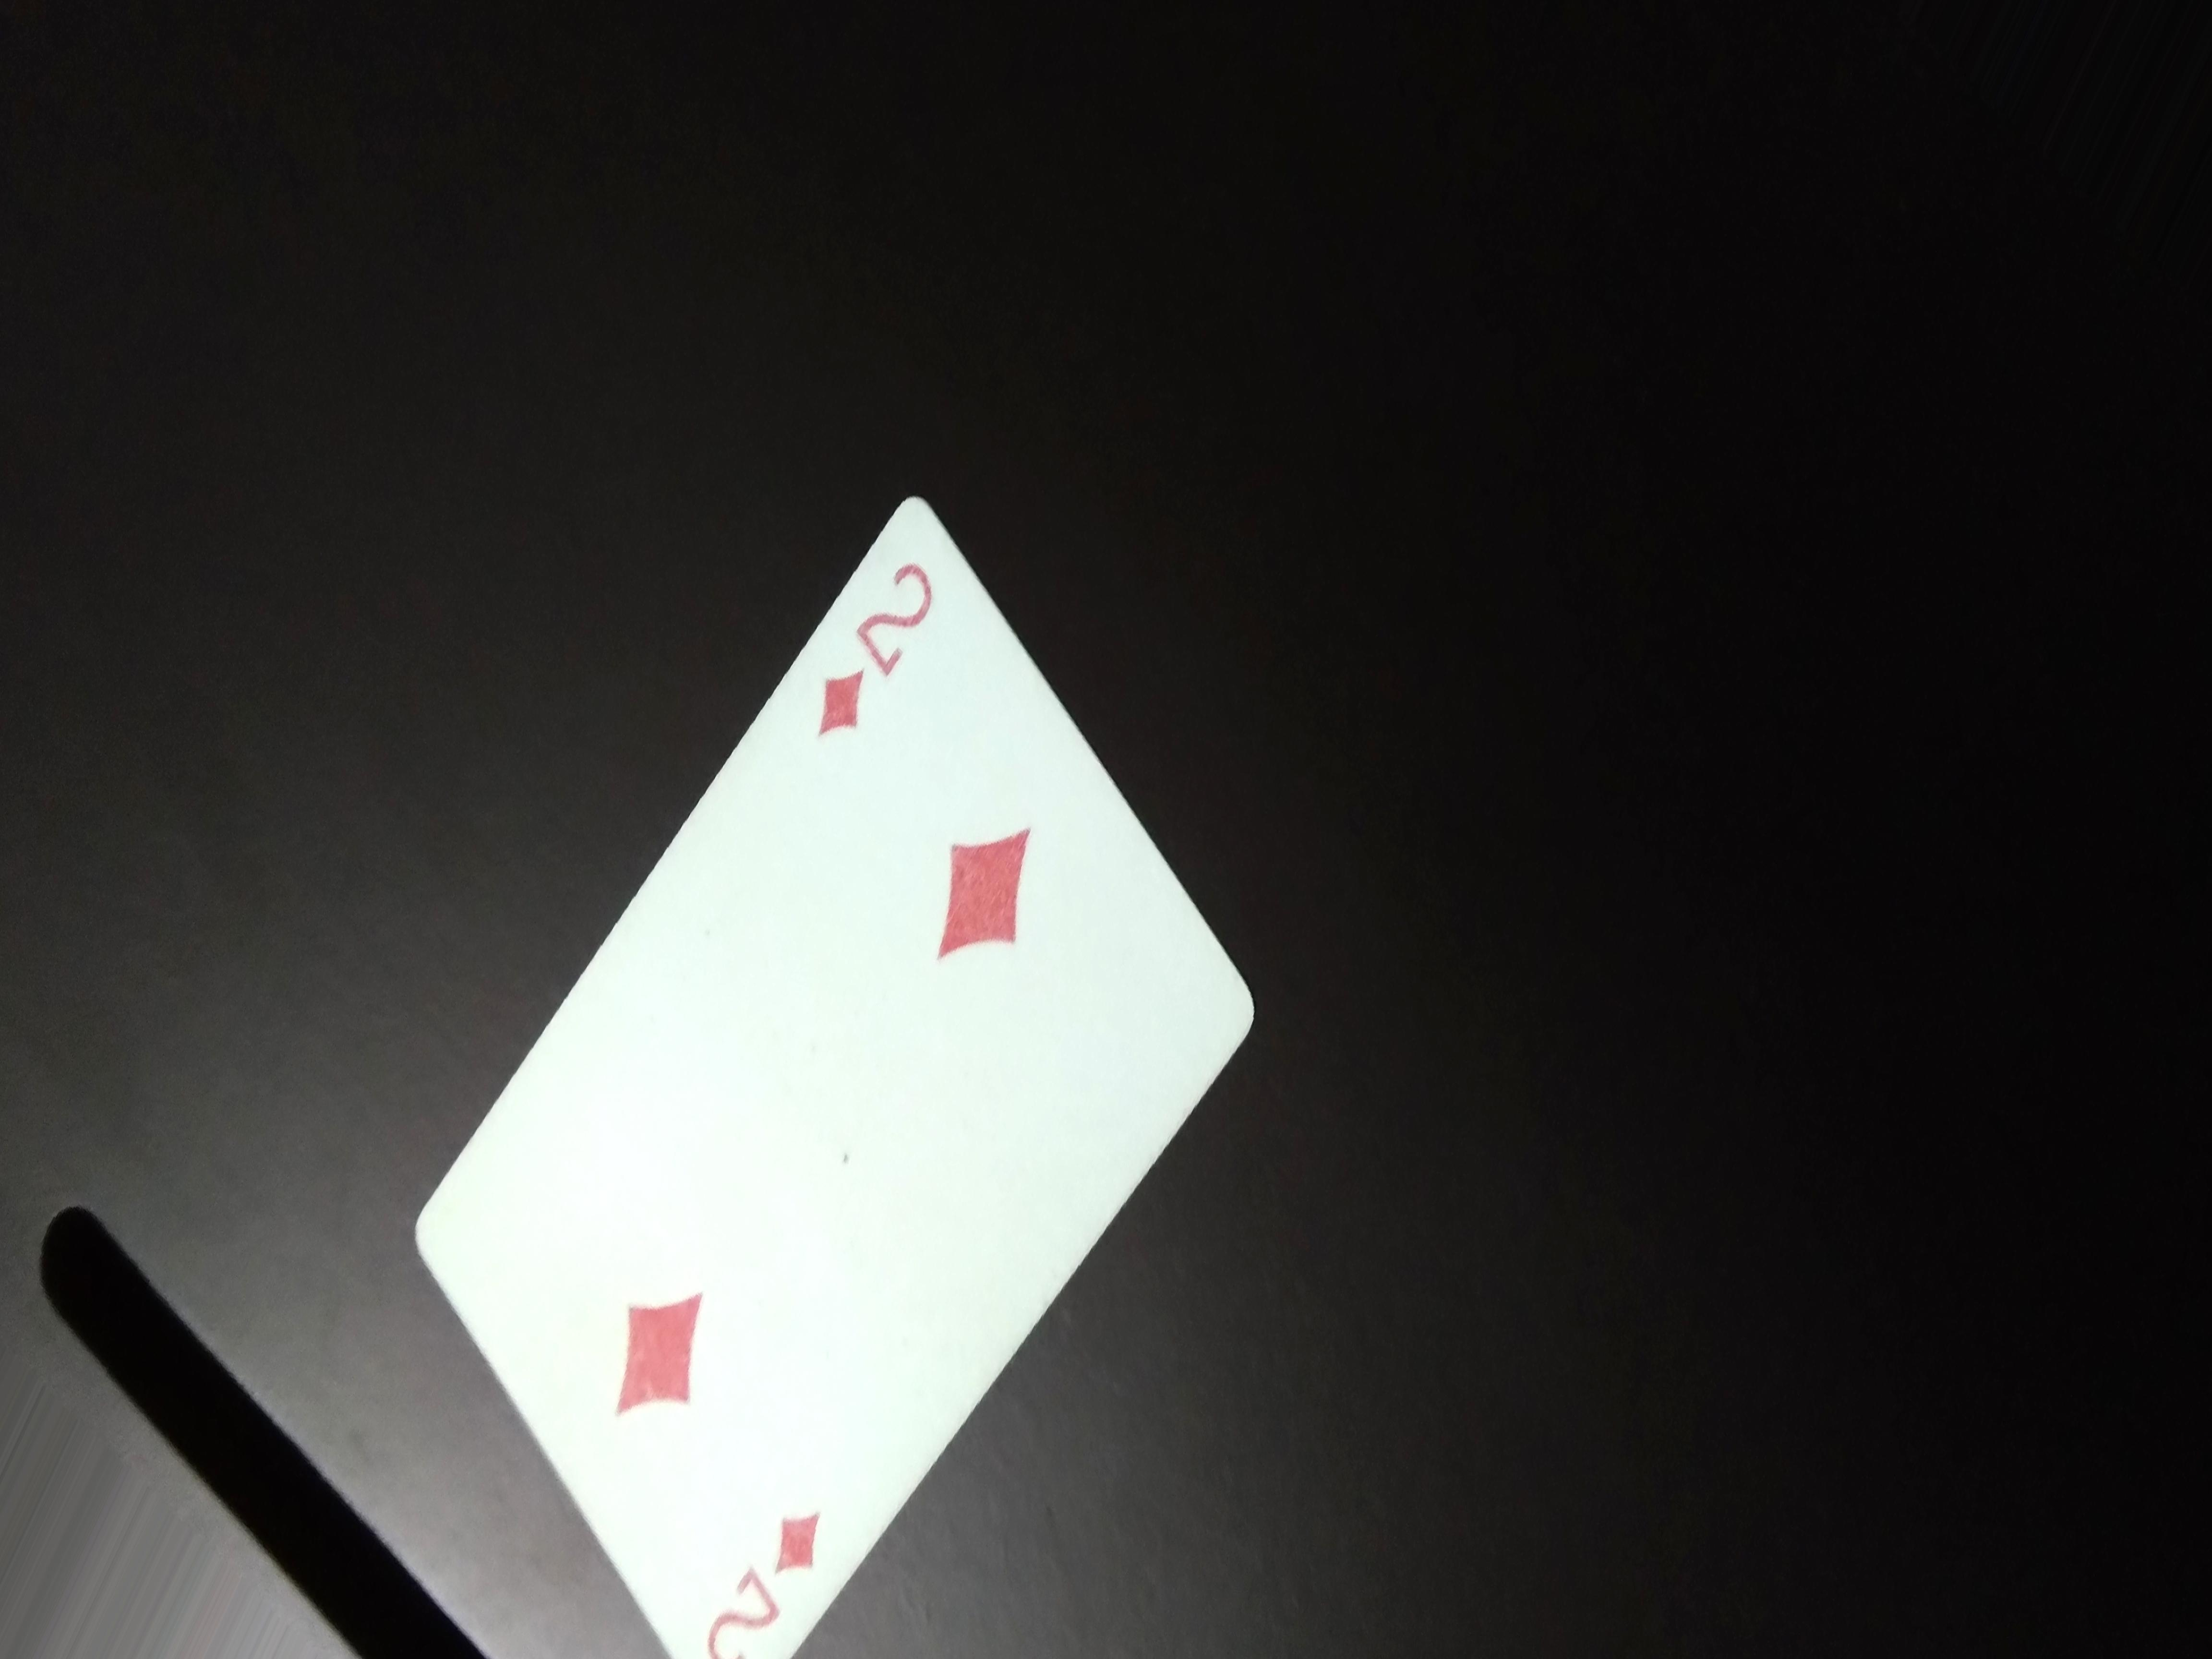2D: (775, 552, 939, 762)
